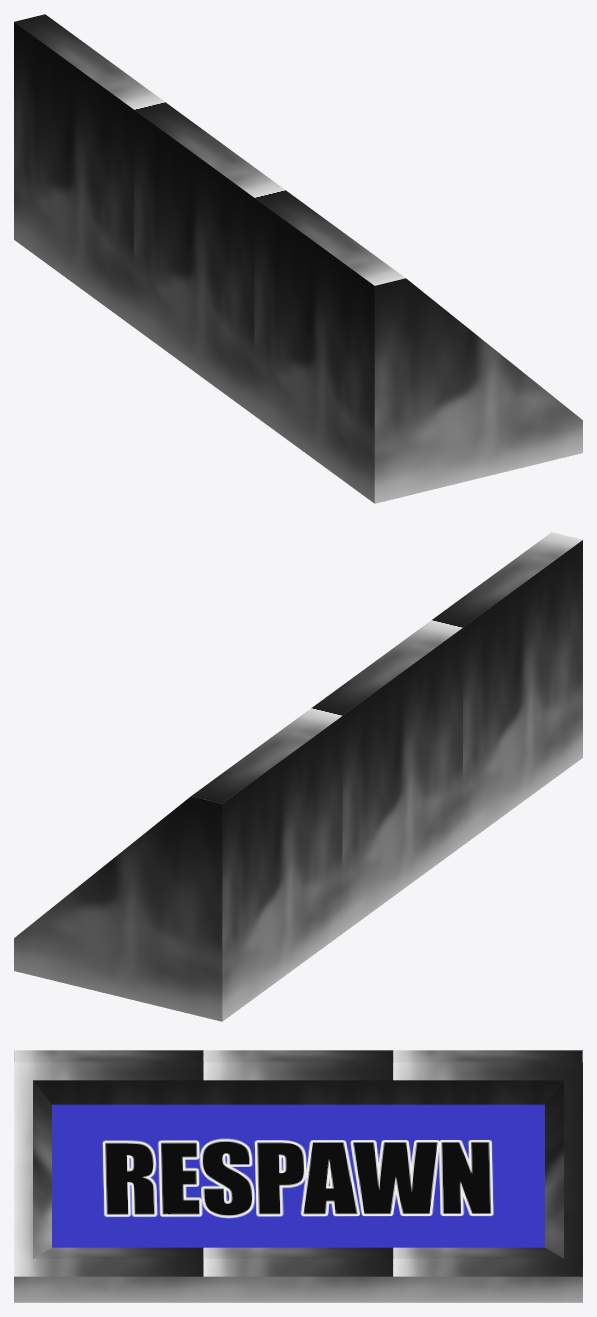
Rendered from RespawnObject.FBX.
3 views of the same model, one above another, from view 1: azimuth 30°, elevation 25°; view 2: azimuth 150°, elevation 25°; view 3: azimuth 270°, elevation 25° (orthographic). The views are drawn at different scales.
Visible parts, largest first — view 1: RespawnObject; view 2: RespawnObject; view 3: RespawnObject.
Part boxes in pixels (x1,y1,x2,y2): RespawnObject: [14, 14, 582, 503]; RespawnObject: [14, 532, 582, 1021]; RespawnObject: [14, 1050, 582, 1302].
Size of the model in its own units: 1 by 1 by 3.
